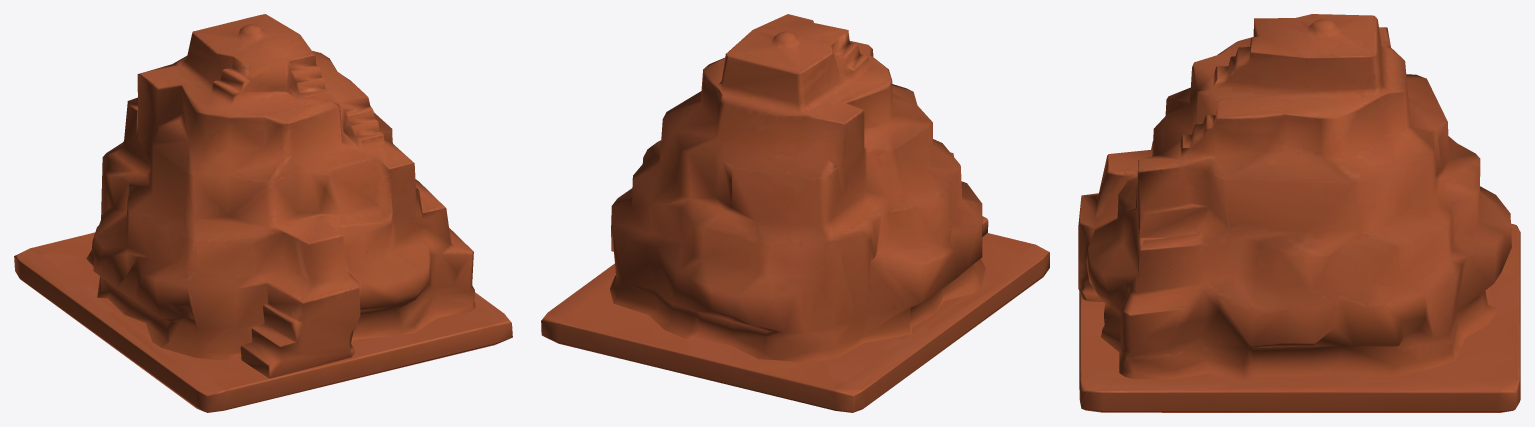
Rendered from mini-hills.glb.
3 renders of one model, left to right at view 1: azimuth 30°, elevation 25°; view 2: azimuth 150°, elevation 25°; view 3: azimuth 270°, elevation 25°, orthographic. The views are drawn at different scales.
Bounding box in the file's own units: 0.8701 × 0.7314 × 0.9541.
Materials: 1 (1 with a texture image).
